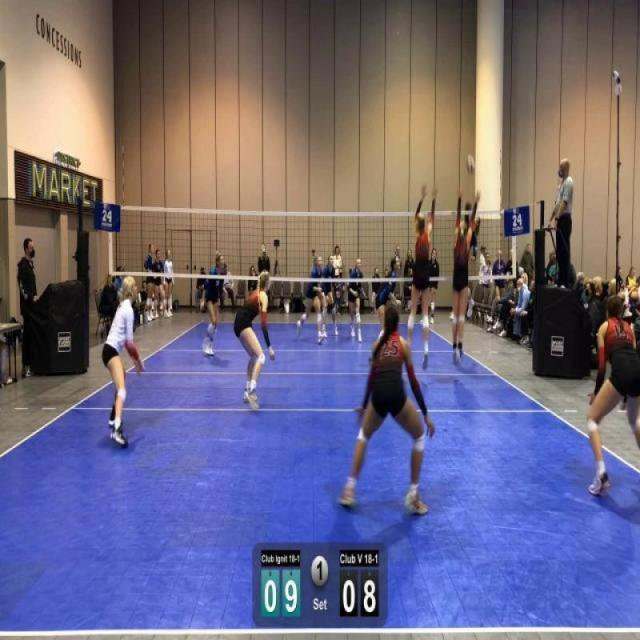volleyball: (465, 152, 476, 178)
